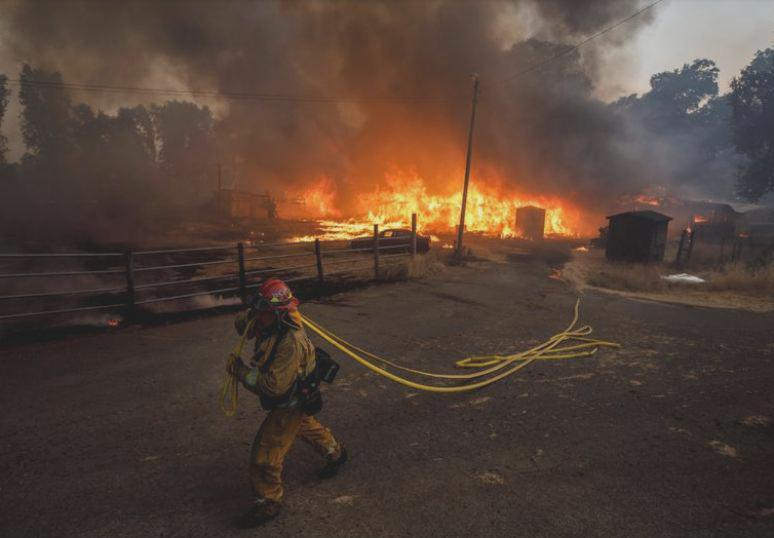Fire: (269, 150, 608, 259)
